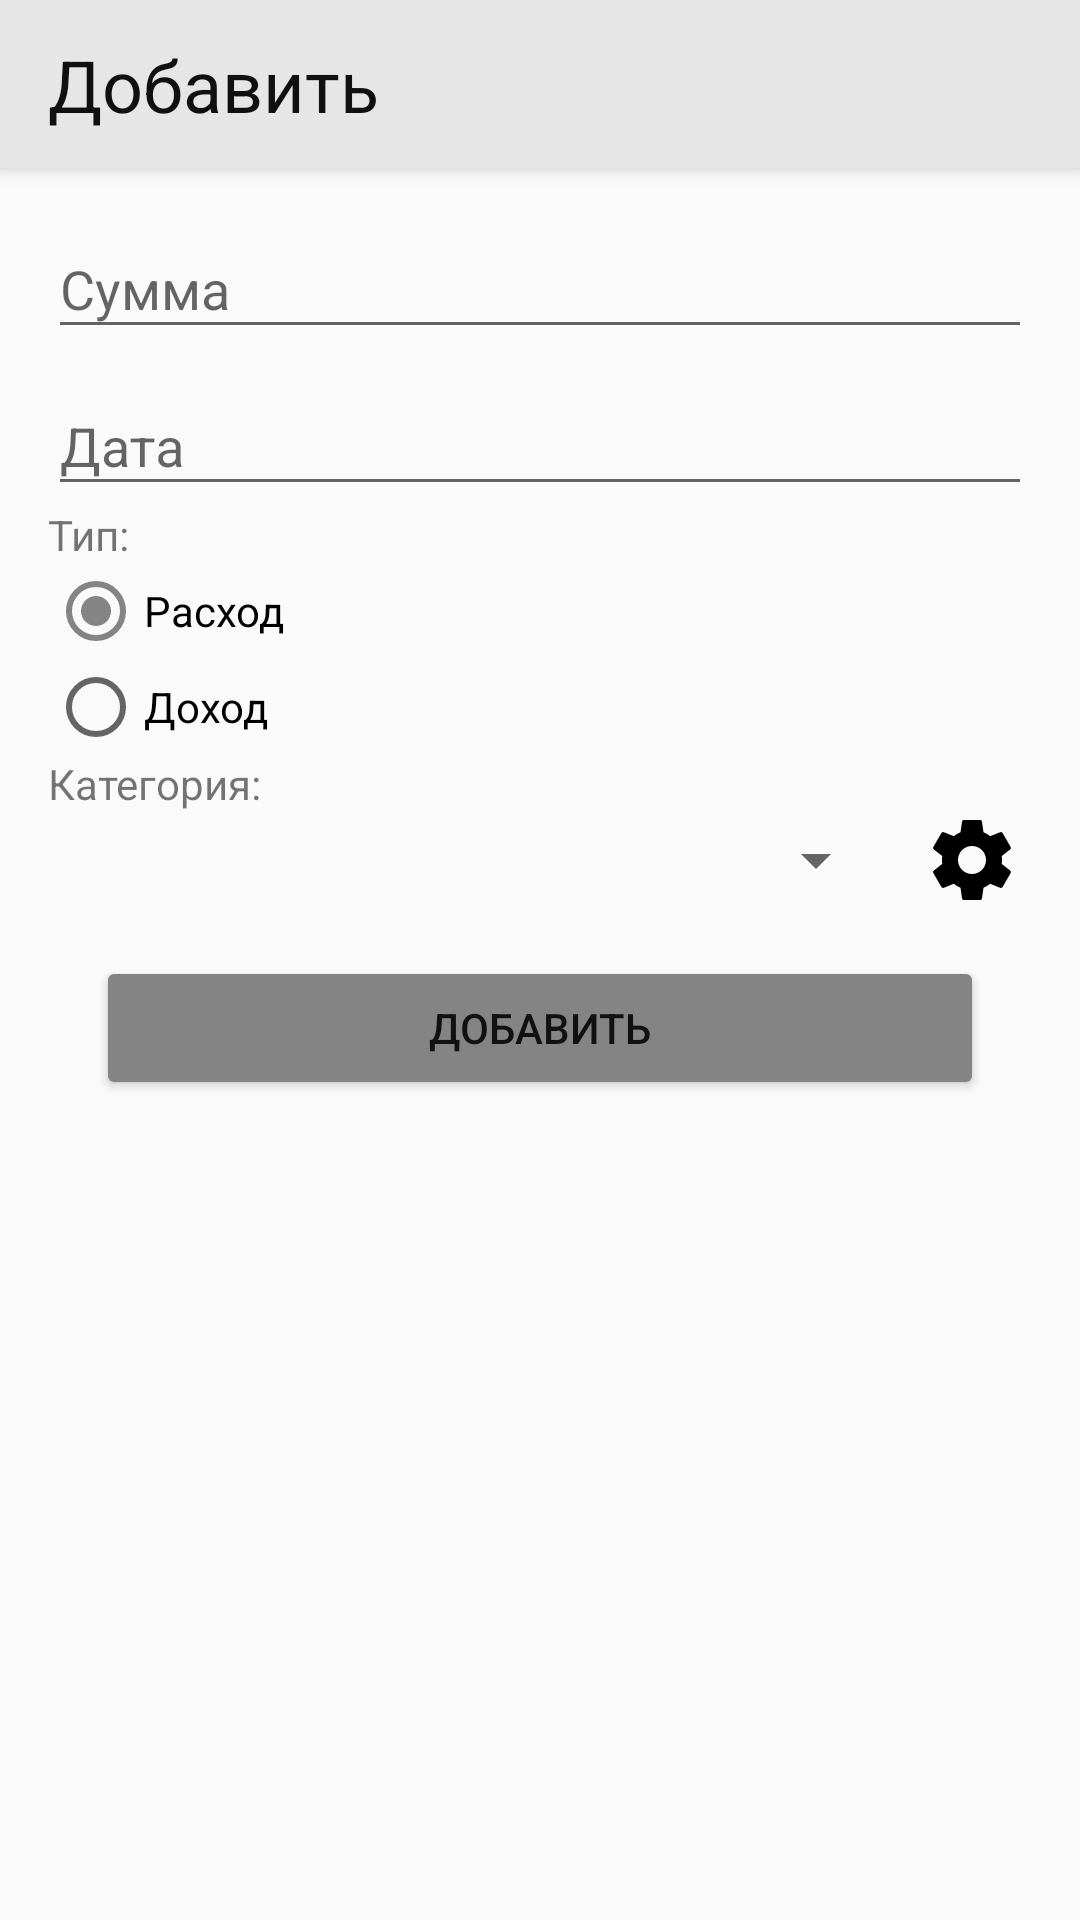

Locate icon controls on the screen. Image size 1080x1920, boxes as (x1, y1, x2, y2).
settings: (933, 820, 1011, 900)
